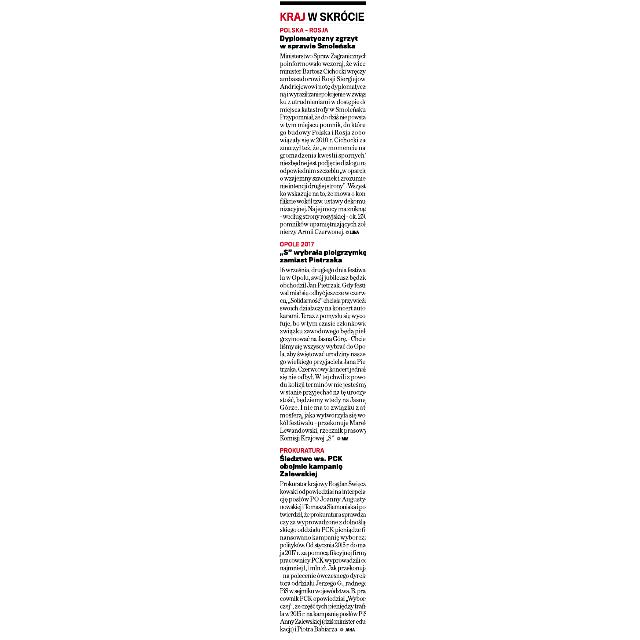body: (278, 27, 366, 636)
title: (278, 8, 366, 24)
